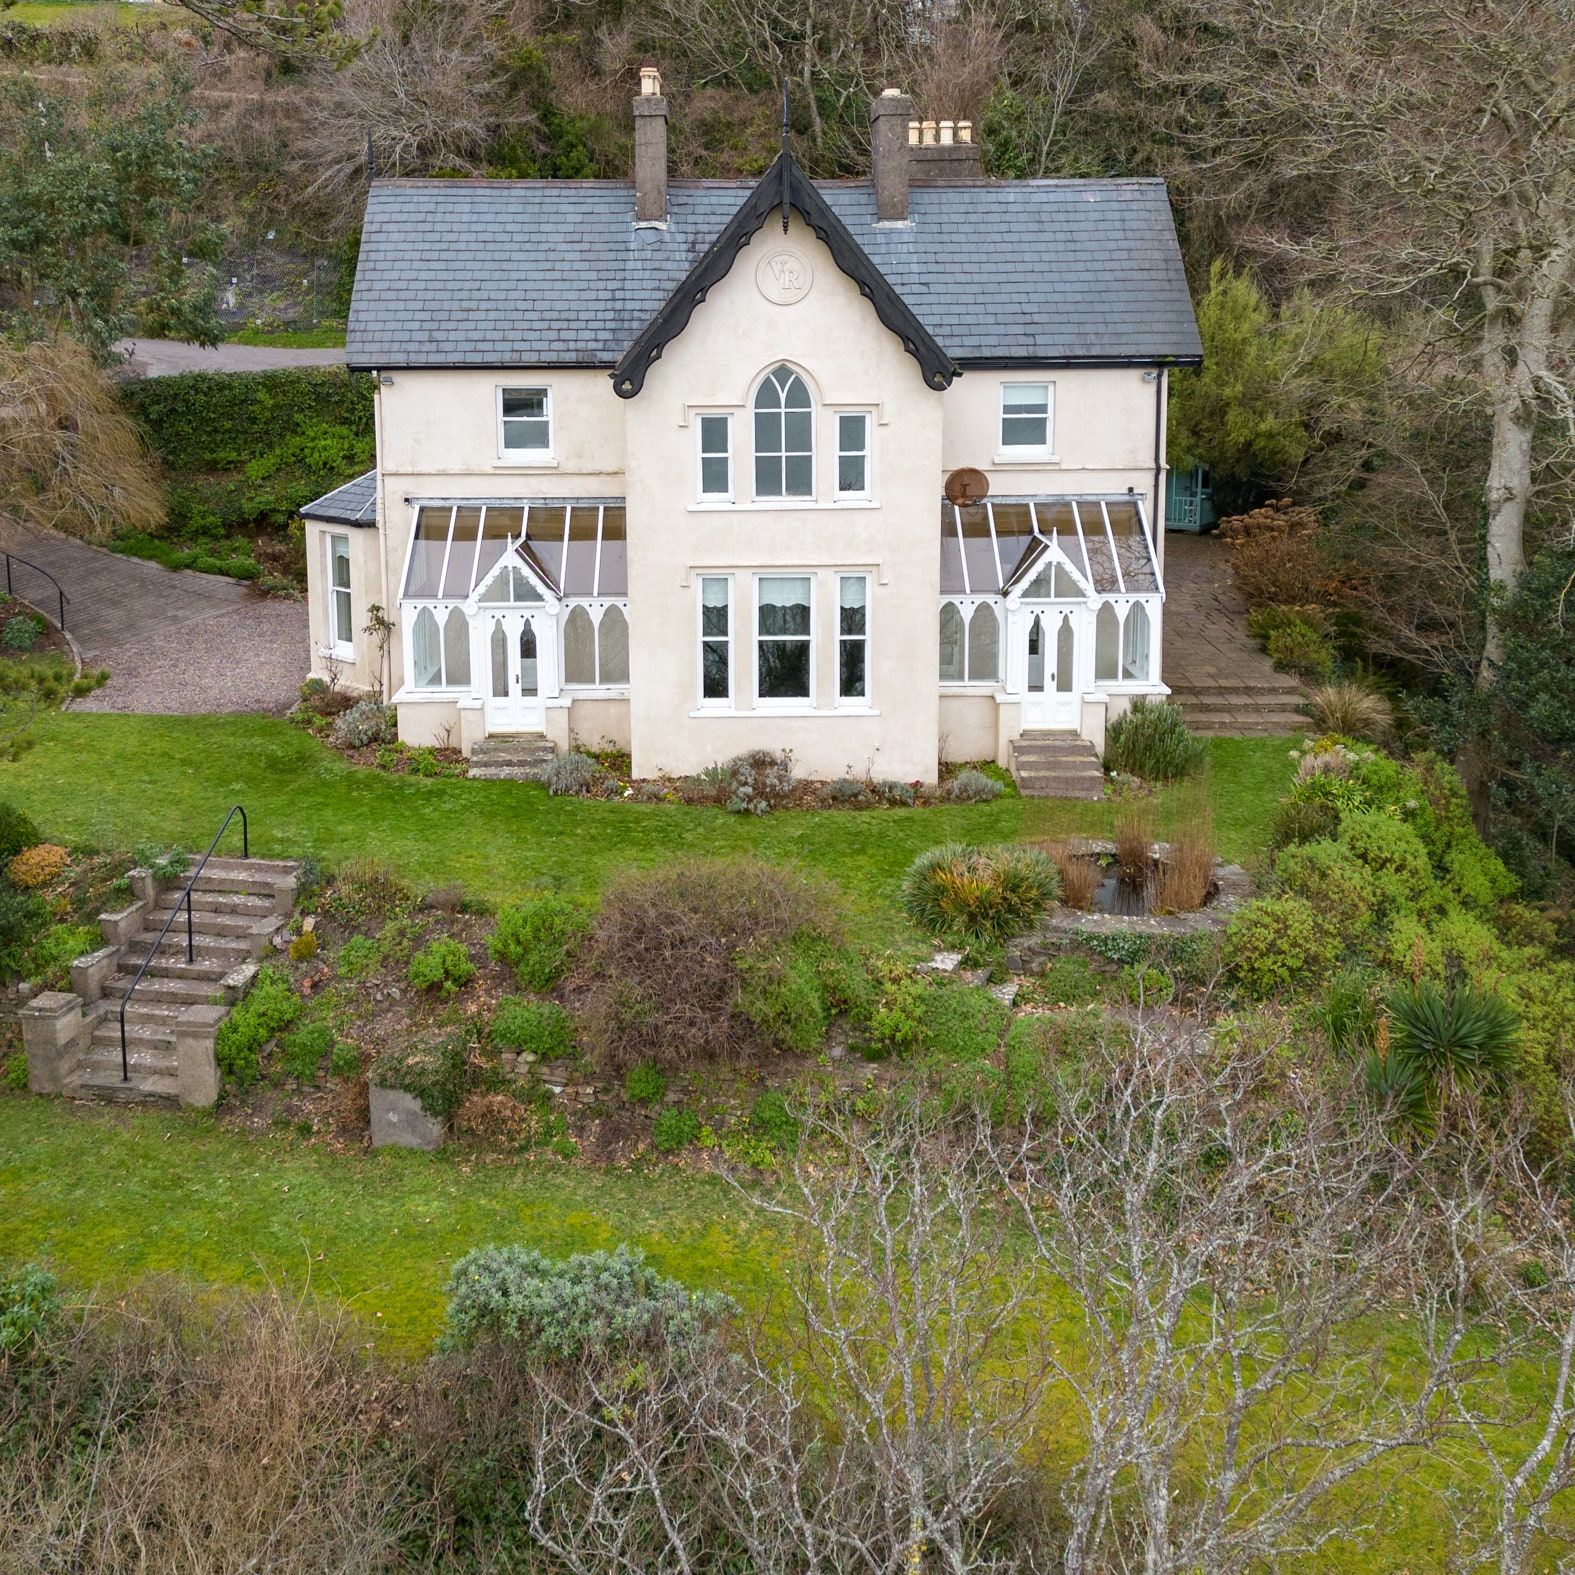Window: (682, 368, 894, 518), (687, 564, 881, 718), (404, 500, 627, 591), (940, 499, 1154, 591), (322, 529, 365, 662), (997, 376, 1059, 464), (495, 384, 555, 467)
